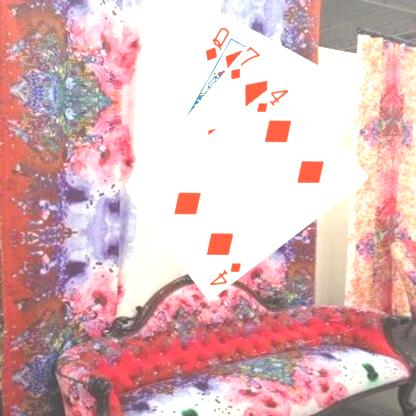4D: (207, 259, 243, 287), (254, 86, 289, 114)
7D: (227, 44, 262, 80)
QD: (202, 24, 231, 62)
